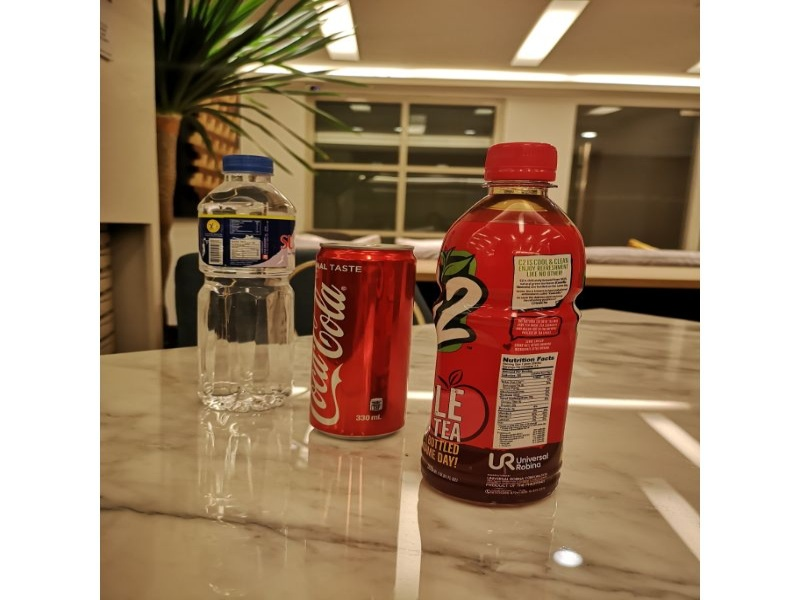PET #1: (419, 138, 588, 515), (194, 151, 297, 415)
